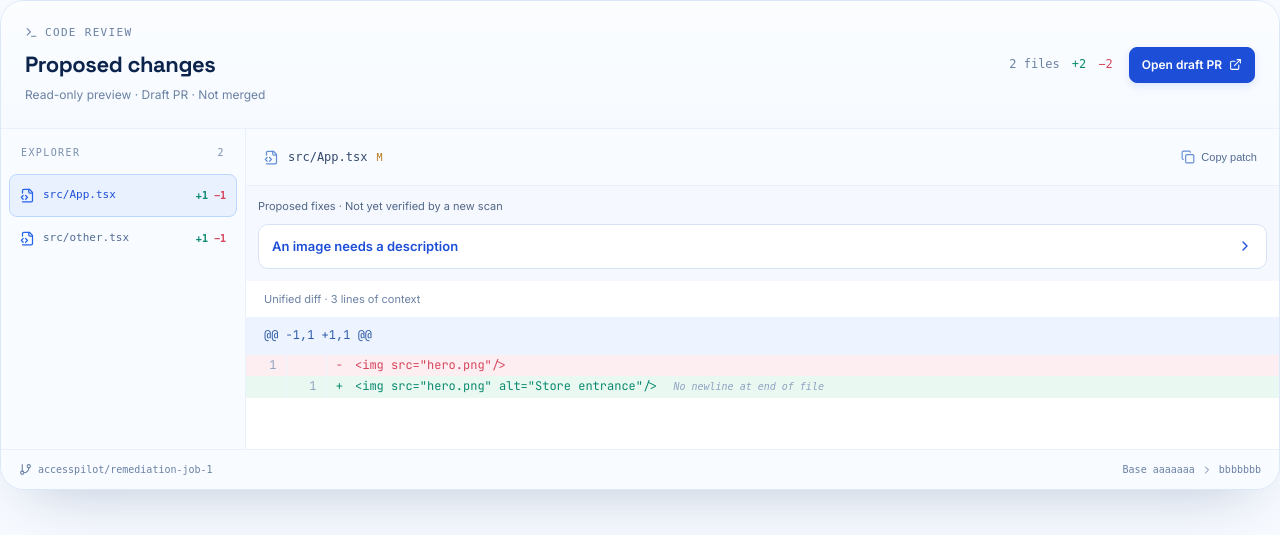
Scenario: explains only the selected changed file and falls back to original findings
Expected: the text "An image needs a description" is shown, [272,236,458,257]
Expected: the text "Proposed fixes · Not yet verified by a new scan" is shown, [258,199,503,213]
Click the button "src/other.tsx +1 −1" at (123, 238), box [9,217,237,259]
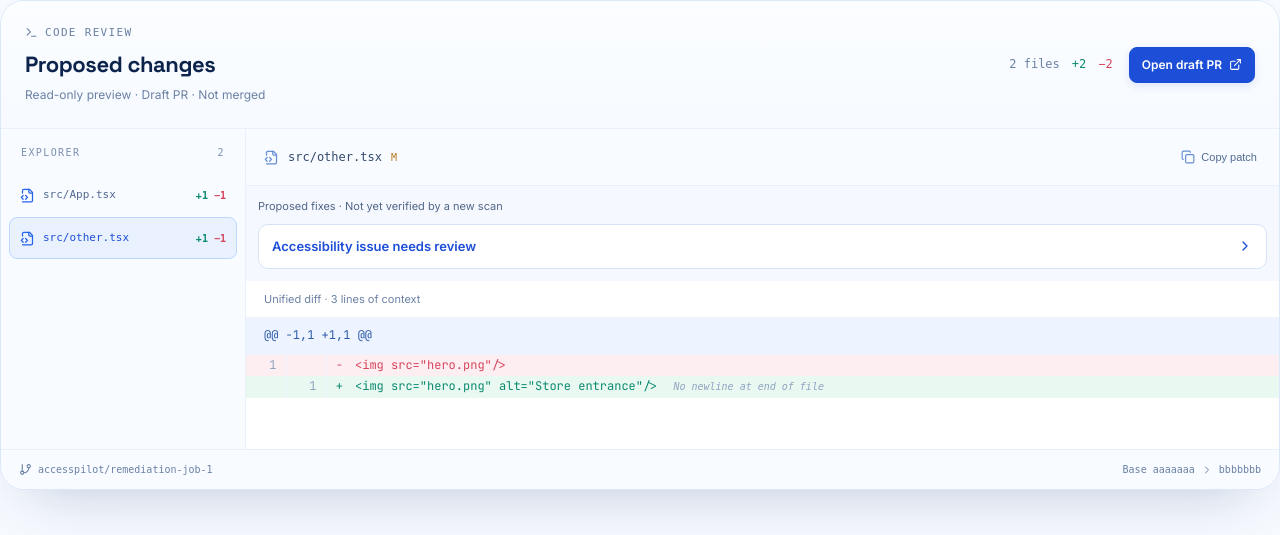
Expected: the heading "An image needs a description" is gone
Expected: the text "Accessibility issue needs review" is shown, [272,236,476,257]
